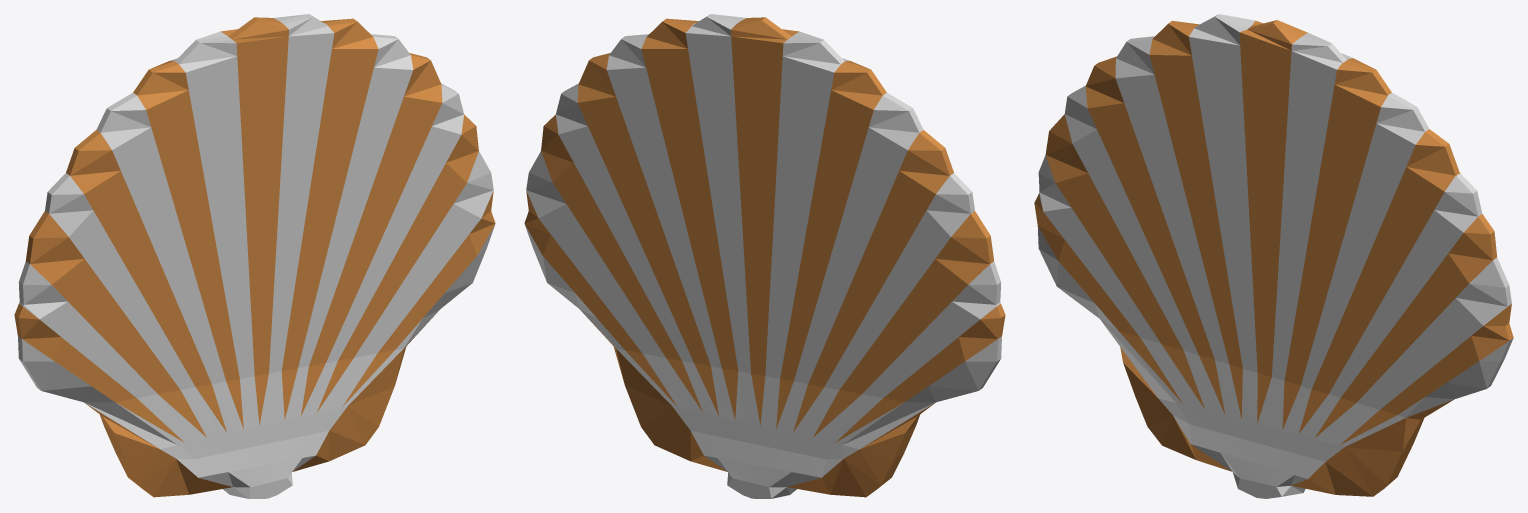
Rendered from clam.fbx.
The picture shows the model from 3 angles, left to right: view 1: azimuth 30°, elevation 25°; view 2: azimuth 150°, elevation 25°; view 3: azimuth 330°, elevation 25°; orthographic projection.
Parts seen in each view (by area): view 1: Plane; view 2: Plane; view 3: Plane.
Part boxes in pixels (left/top/right/bottom): Plane: left=14, top=14, right=495, bottom=498; Plane: left=524, top=14, right=1005, bottom=498; Plane: left=1034, top=14, right=1513, bottom=498.
Bounding box in the file's own units: 431 × 410 × 46.88.
